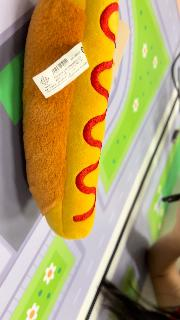hotdog: (21, 2, 121, 240)
